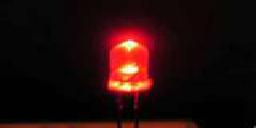LED: (101, 37, 158, 128)
